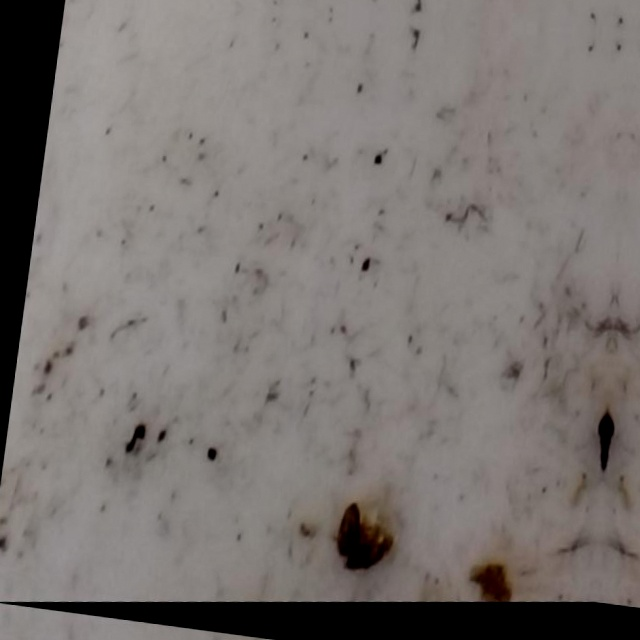varroa: (333, 505, 368, 563)
